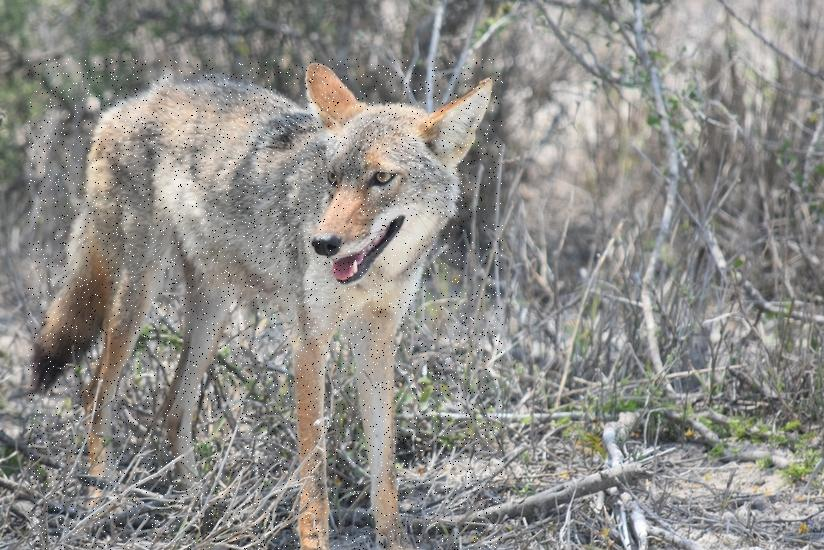Coyote: (28, 59, 503, 550)
